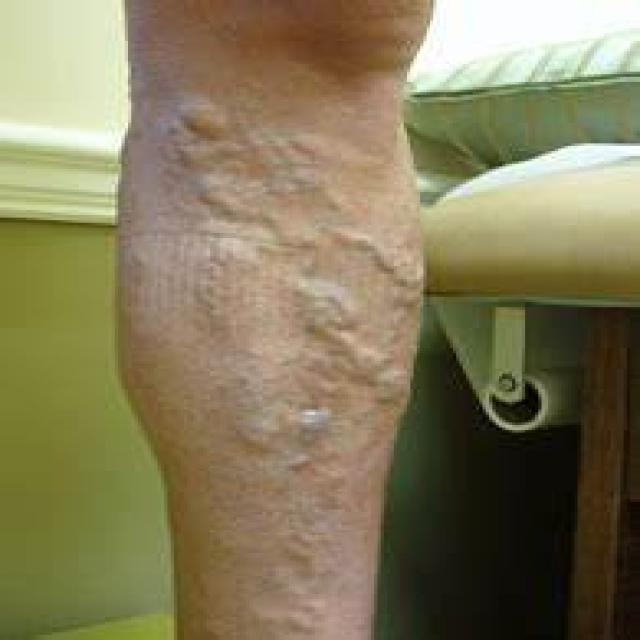Varicose: (95, 64, 502, 630)
